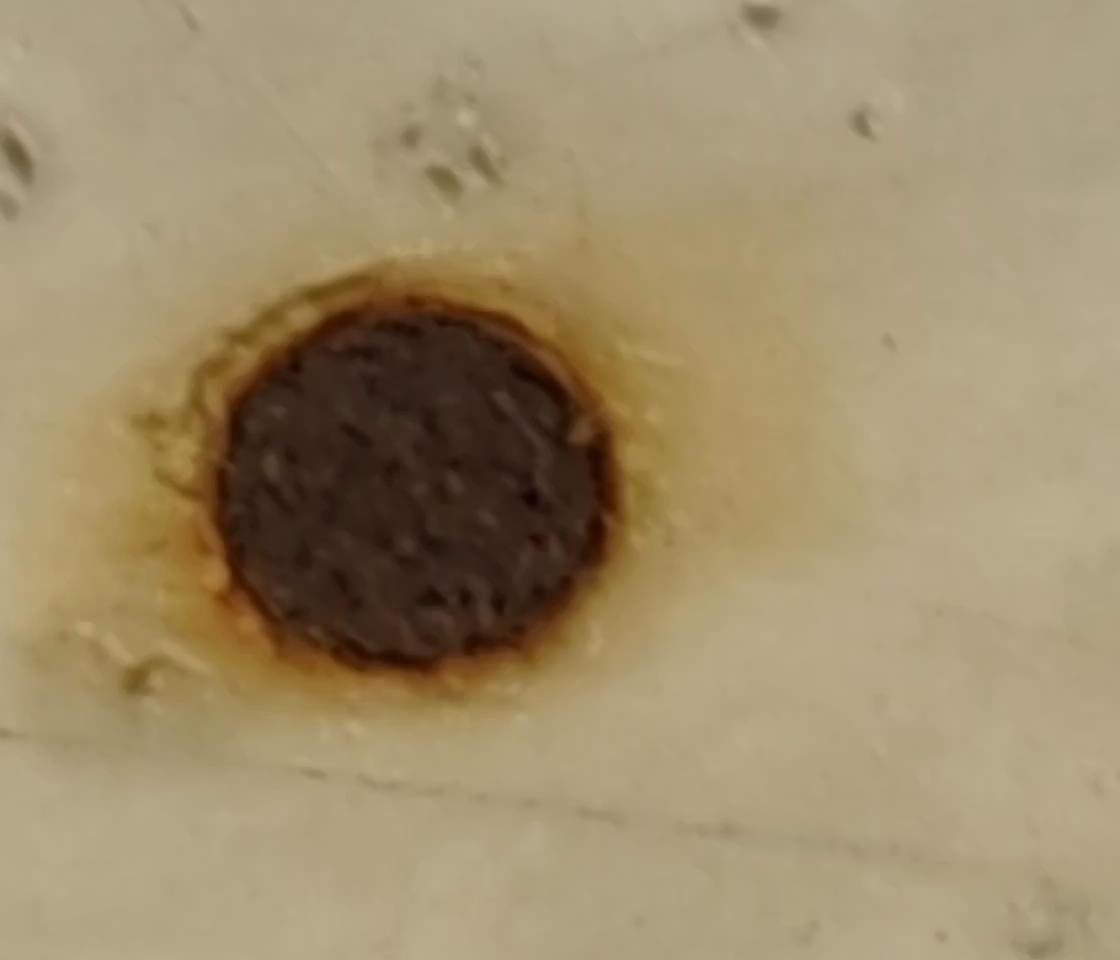rust: (197, 293, 640, 679)
